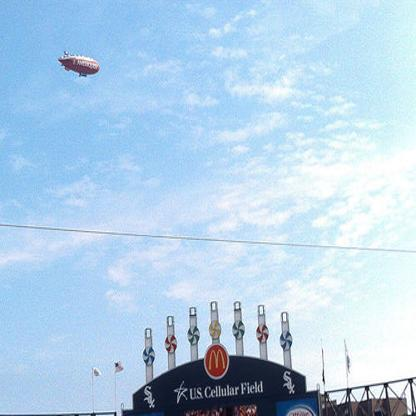Airship: (55, 49, 109, 86)
